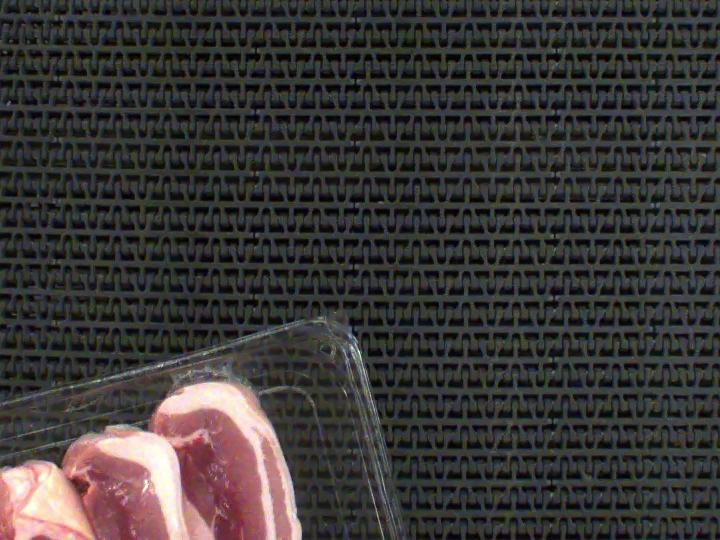packaging-error: (166, 356, 262, 394)
